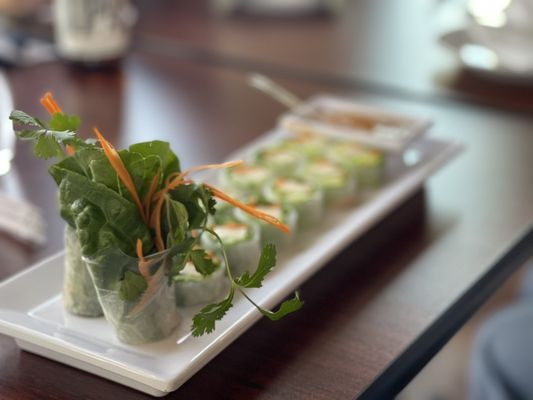pizza: (49, 0, 140, 69)
